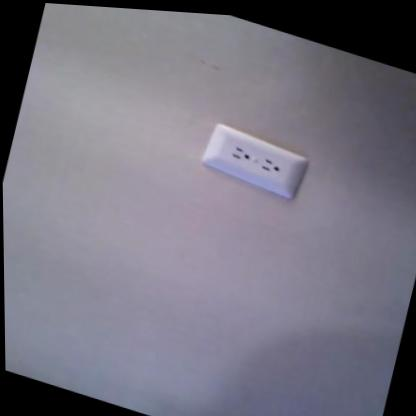OUTLET: (196, 116, 311, 206)
